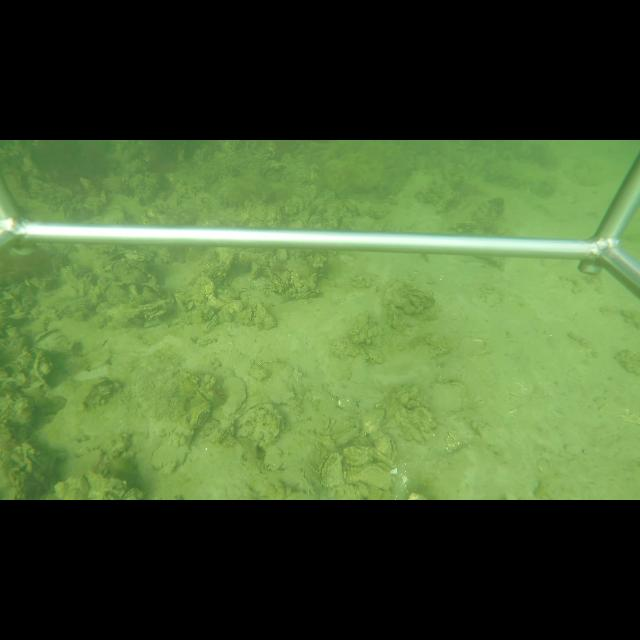Oyster-Closed: (235, 402, 283, 446), (208, 376, 250, 421), (151, 436, 193, 469), (349, 462, 394, 490), (431, 380, 469, 411), (343, 445, 373, 465), (362, 409, 387, 433), (255, 302, 276, 329), (222, 299, 244, 316), (192, 409, 208, 430), (203, 315, 219, 334), (360, 430, 373, 447)
Oyster-Open: (318, 453, 348, 487), (373, 434, 398, 461), (33, 328, 60, 344), (140, 283, 164, 300), (195, 388, 213, 405)
